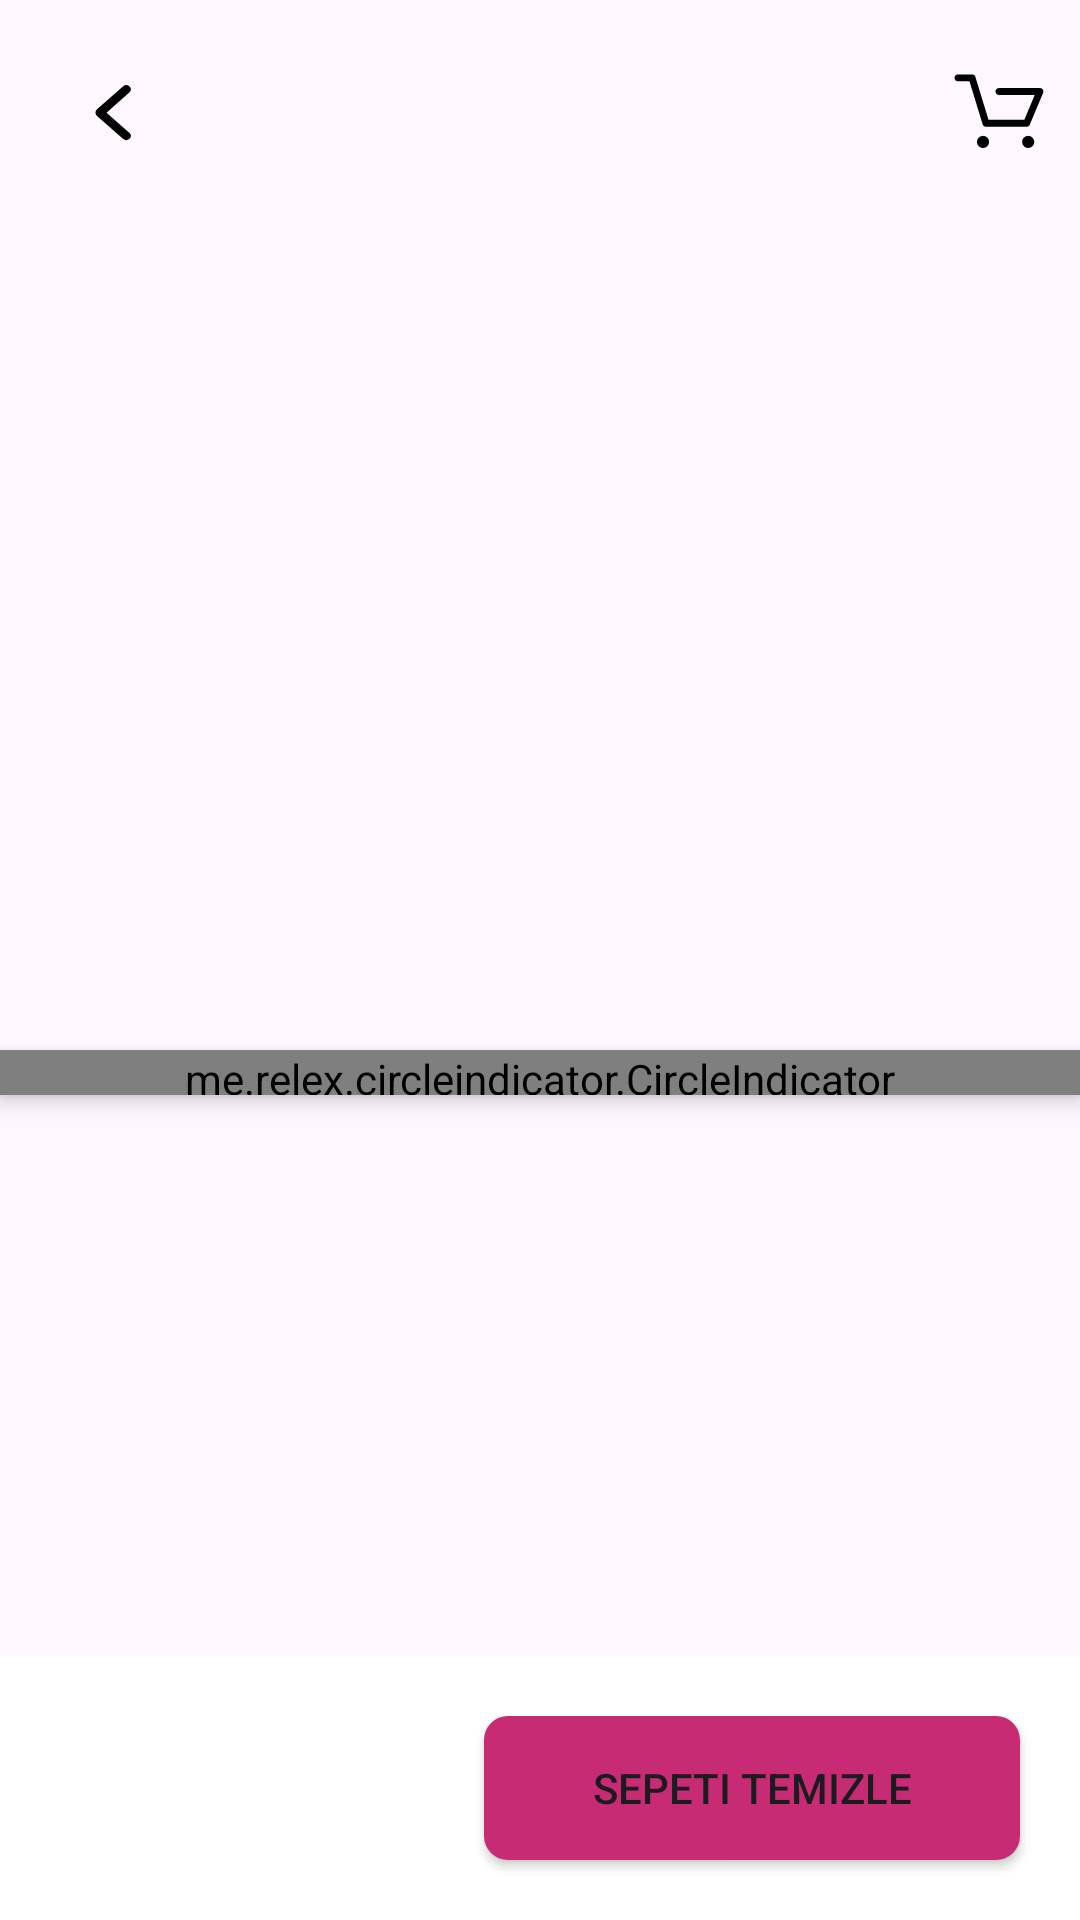

Icons on this 1080px×1920px Android screen, each with the point to tap as point (x, y):
back: point (113, 113)
shopping cart: point (999, 111)
